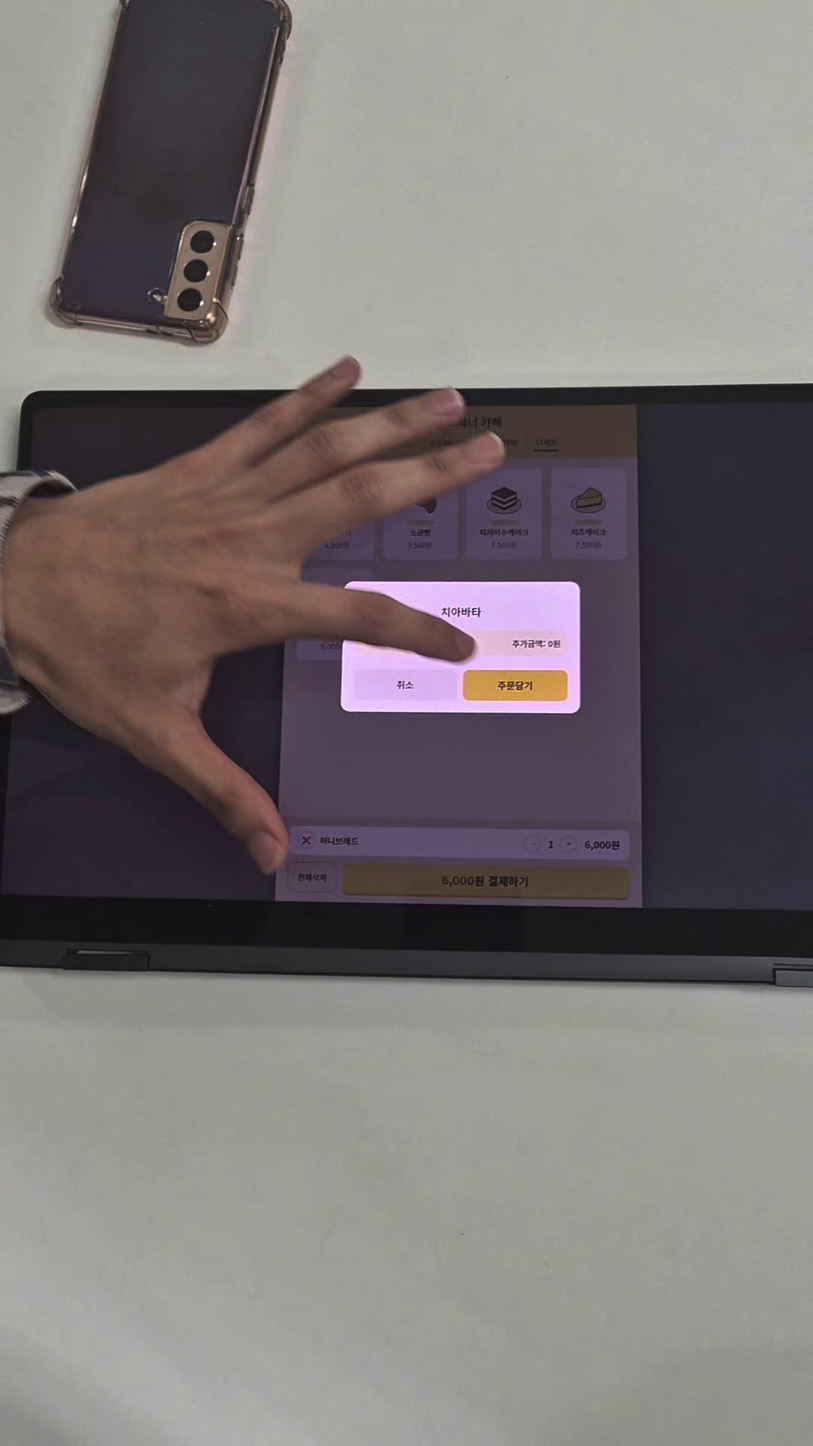action_button: (342, 863, 631, 901), (462, 670, 568, 701), (354, 670, 457, 700), (288, 862, 336, 892)
cart_item: (289, 826, 630, 860)
category_tab: (534, 438, 559, 447)
menu_back: (550, 468, 628, 560), (465, 467, 542, 560), (383, 466, 459, 560)
menu_name: (440, 606, 483, 619), (319, 835, 360, 848), (478, 527, 530, 537), (570, 528, 607, 537), (408, 529, 432, 538)
menu_price: (583, 839, 621, 852), (574, 541, 603, 550), (407, 541, 433, 551), (490, 541, 518, 549), (323, 542, 350, 550), (320, 643, 345, 651)
popup_modal: (340, 582, 580, 713)
